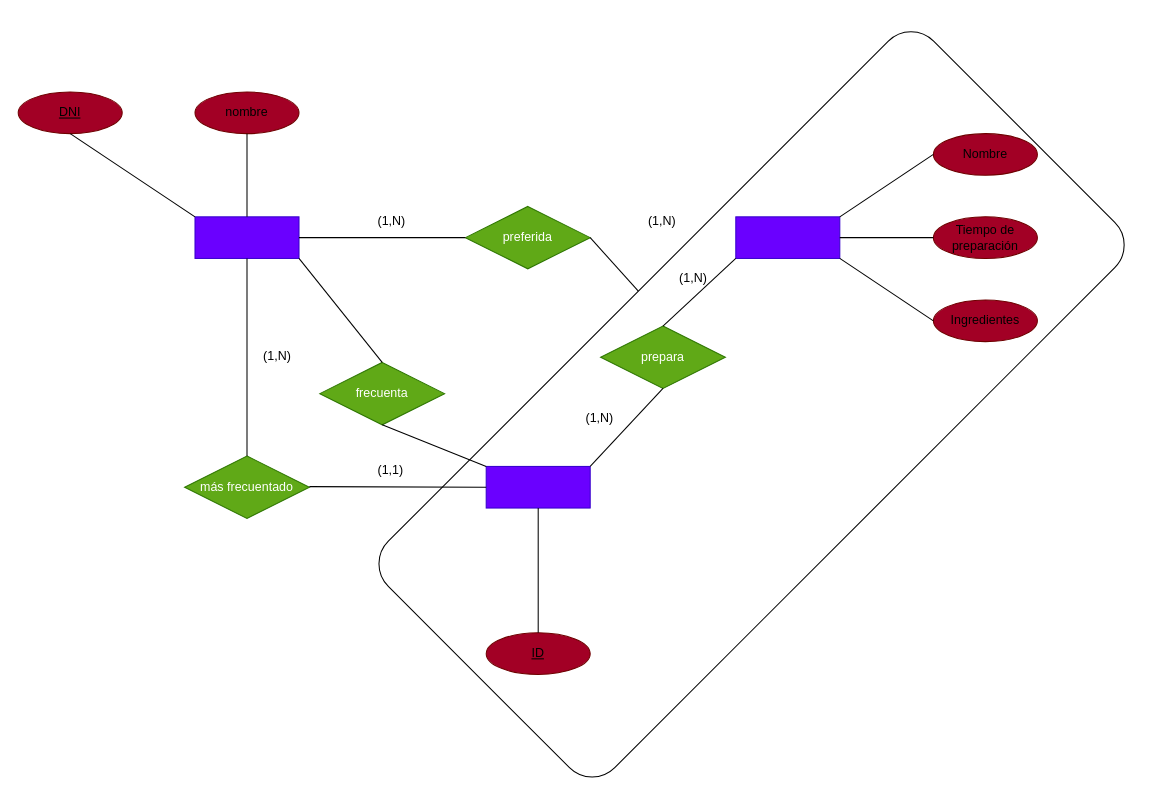
Image size: 1156x809. Some labels were removed from this diagram. The centre of each missing label's shape, as x and y in pixels:
"cliente" belongs at pixel 246 237.
"comida" belongs at pixel 787 237.
"restaurante" belongs at pixel 537 486.
